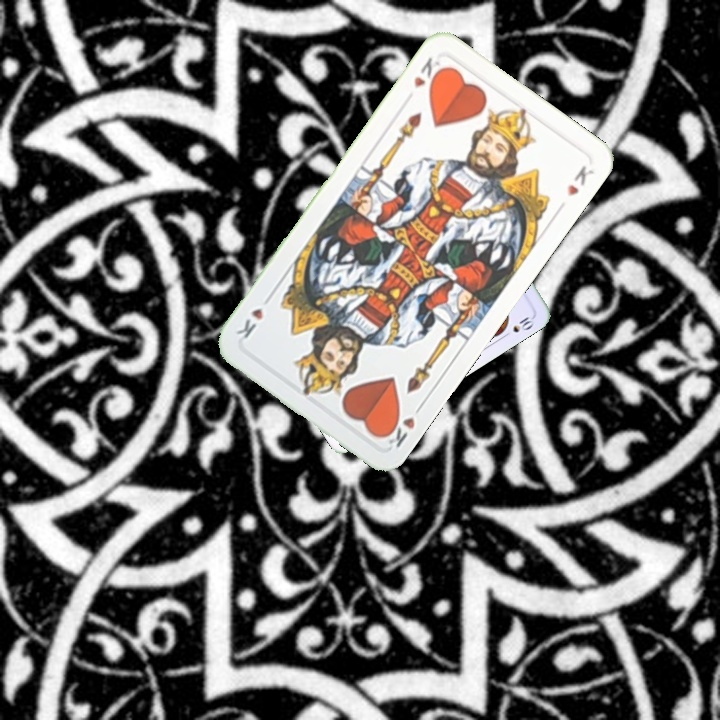HK: (379, 399, 426, 451), (410, 52, 442, 90)
